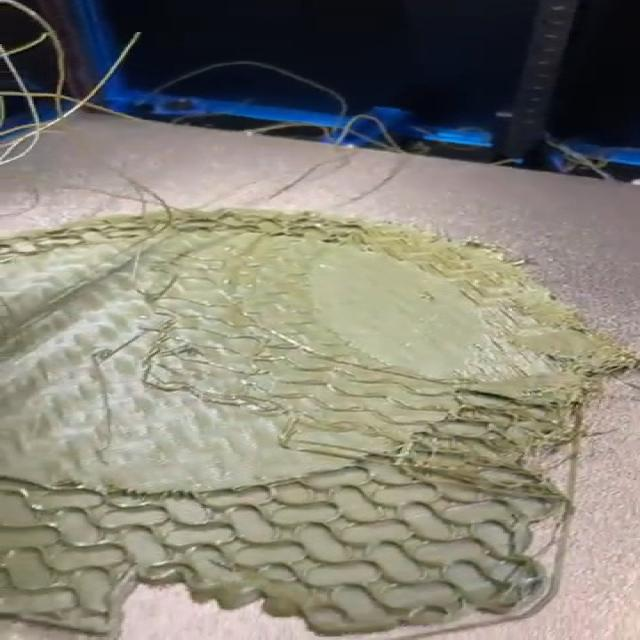spaghetti: (0, 20, 113, 190)
